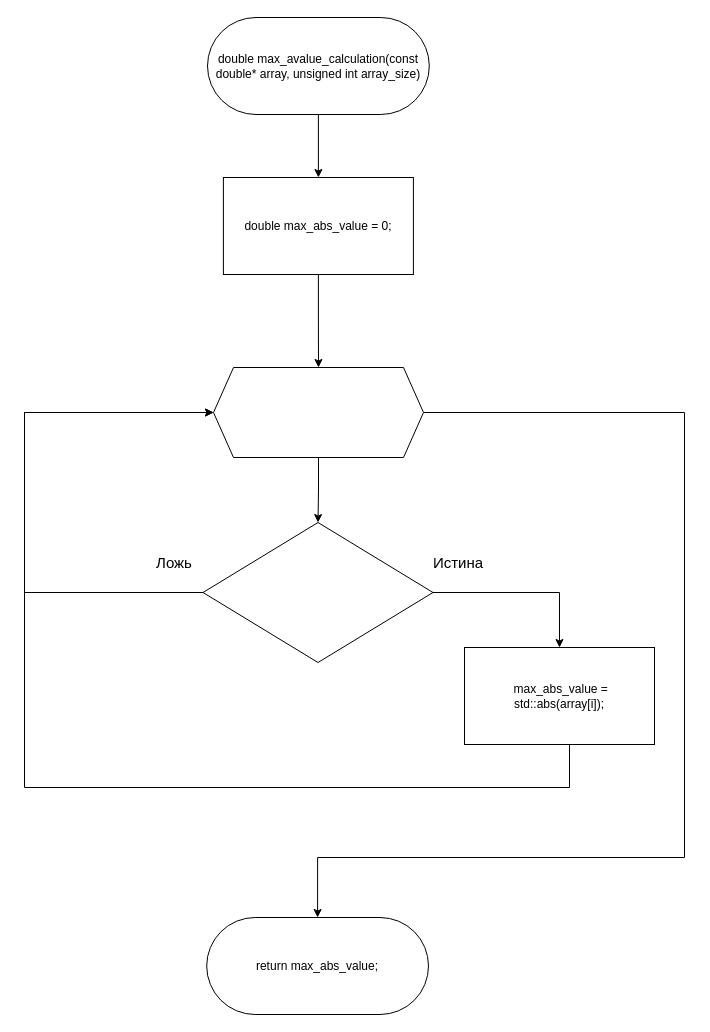
Some shapes in this 710 by 1032 pixel diagram are drawn without their labels. Each missing label, with the centre of its shape:
"for (unsigned int i = 0; i < array_size; ++i)" goes at (x=318, y=412).
"if (std::abs(array[i]) > max_abs_value)" goes at (x=317, y=592).
